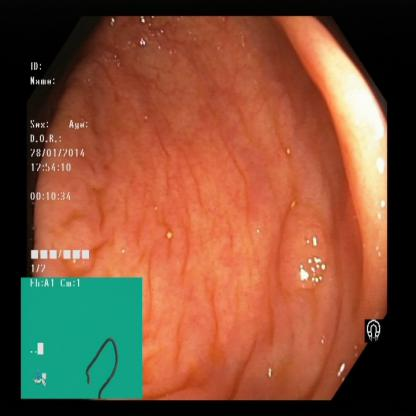Labels: (24, 52, 124, 278), (22, 278, 146, 401)
Polyps: (260, 178, 338, 314)
